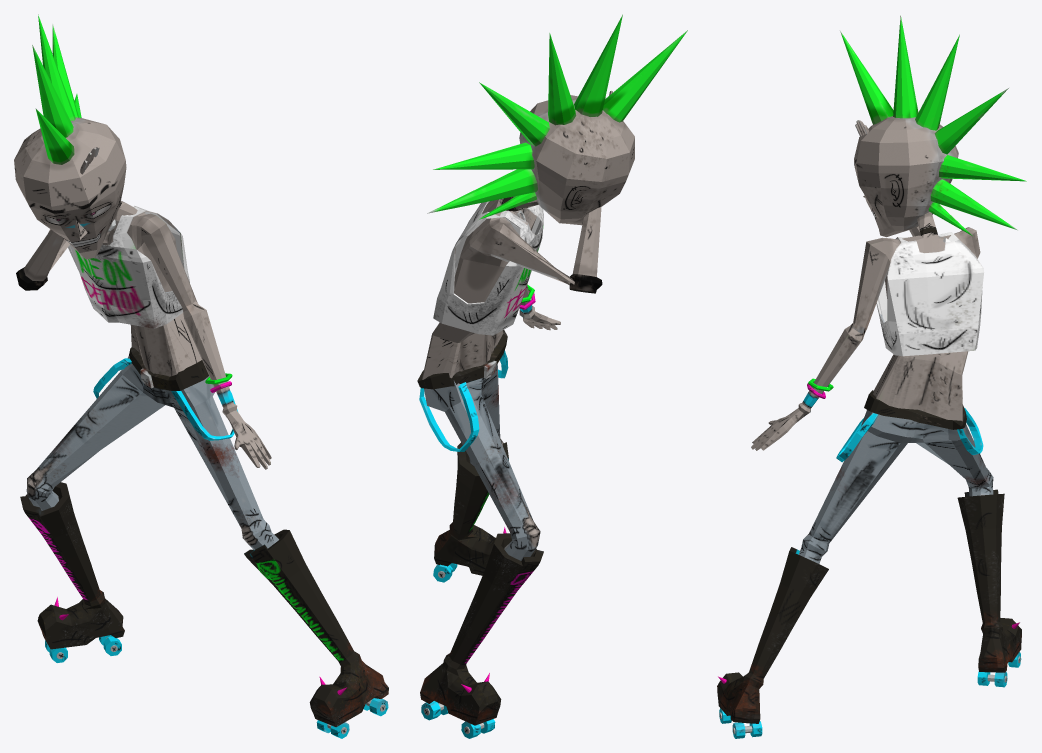
File: punkAnimation_000071.obj
3 renders of one model, left to right at view 1: azimuth 30°, elevation 25°; view 2: azimuth 150°, elevation 25°; view 3: azimuth 270°, elevation 25°, orthographic. The views are drawn at different scales.
Visible parts, largest first — view 1: Cube.004_Cube.003; view 2: Cube.004_Cube.003; view 3: Cube.004_Cube.003.
Part boxes in pixels (x1,y1,x2,y2): Cube.004_Cube.003: [14, 14, 388, 738]; Cube.004_Cube.003: [417, 14, 687, 738]; Cube.004_Cube.003: [717, 15, 1026, 738].
Size of the model in its own units: 3.09 by 6.72 by 3.08.
